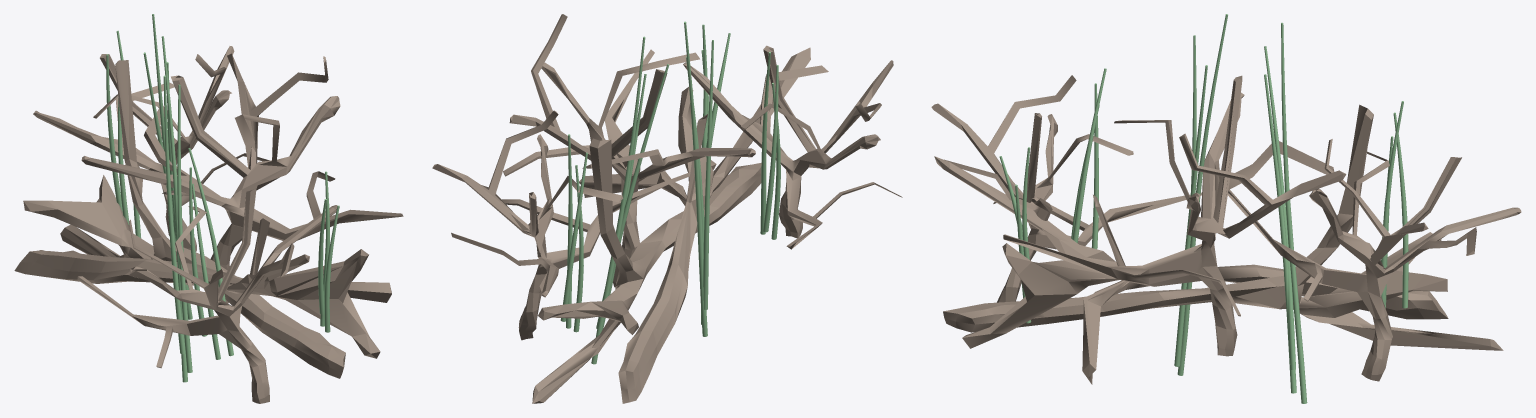
File: Bursh_Colider.fbx
3 views of the same model, side by side, from view 1: azimuth 30°, elevation 25°; view 2: azimuth 150°, elevation 25°; view 3: azimuth 270°, elevation 25° (orthographic). The views are drawn at different scales.
Parts seen in each view (by area): view 1: deadTree2, fallenTree3, fallenTree4, deadTree5, deadTree4, pCylinder15, pCylinder17, pCylinder16, pCylinder13, pCylinder6, pCylinder20, pCylinder14 (+7 smaller); view 2: fallenTree3, fallenTree4, deadTree2, deadTree5, deadTree4, pCylinder16, pCylinder15, pCylinder10, pCylinder13, pCylinder12, pCylinder9, pCylinder6 (+5 smaller); view 3: fallenTree3, deadTree2, fallenTree4, deadTree4, deadTree5, pCylinder10, pCylinder9, pCylinder16, pCylinder11, pCylinder17, pCylinder6, pCylinder13 (+2 smaller).
Boxes of the visible parts, left/top/right/bottom form: deadTree2: left=81, top=53, right=403, bottom=303; fallenTree3: left=23, top=60, right=345, bottom=378; fallenTree4: left=14, top=218, right=391, bottom=358; deadTree5: left=77, top=188, right=339, bottom=403; deadTree4: left=33, top=46, right=269, bottom=251; pCylinder15: left=163, top=75, right=184, bottom=354; pCylinder17: left=177, top=84, right=192, bottom=372; pCylinder16: left=161, top=36, right=187, bottom=382; pCylinder13: left=188, top=148, right=233, bottom=356; pCylinder6: left=106, top=54, right=122, bottom=211; pCylinder20: left=324, top=205, right=339, bottom=332; pCylinder14: left=192, top=183, right=220, bottom=359; fallenTree3: left=532, top=138, right=761, bottom=403; fallenTree4: left=579, top=47, right=810, bottom=403; deadTree2: left=503, top=14, right=755, bottom=287; deadTree5: left=683, top=45, right=902, bottom=249; deadTree4: left=432, top=110, right=689, bottom=340; pCylinder16: left=684, top=21, right=707, bottom=336; pCylinder15: left=703, top=40, right=713, bottom=309; pCylinder10: left=591, top=36, right=645, bottom=364; pCylinder13: left=760, top=52, right=770, bottom=234; pCylinder12: left=763, top=65, right=778, bottom=232; pCylinder9: left=596, top=64, right=669, bottom=328; pCylinder6: left=560, top=152, right=587, bottom=321; fallenTree3: left=943, top=104, right=1503, bottom=350; deadTree2: left=1003, top=75, right=1346, bottom=356; fallenTree4: left=934, top=156, right=1448, bottom=384; deadTree4: left=1228, top=139, right=1521, bottom=381; deadTree5: left=931, top=75, right=1201, bottom=302; pCylinder10: left=1281, top=22, right=1307, bottom=403; pCylinder9: left=1264, top=46, right=1295, bottom=369; pCylinder16: left=1177, top=14, right=1227, bottom=375; pCylinder11: left=1264, top=74, right=1296, bottom=393; pCylinder17: left=1174, top=65, right=1207, bottom=366; pCylinder6: left=1393, top=112, right=1408, bottom=308; pCylinder13: left=1072, top=68, right=1106, bottom=242.
Size of the model in its own units: 3.49 by 3.77 by 5.6.
